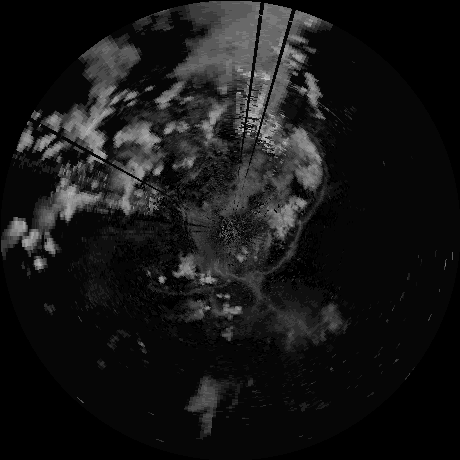frontgust: (238, 222, 302, 281), (306, 166, 328, 221), (151, 280, 230, 294)
